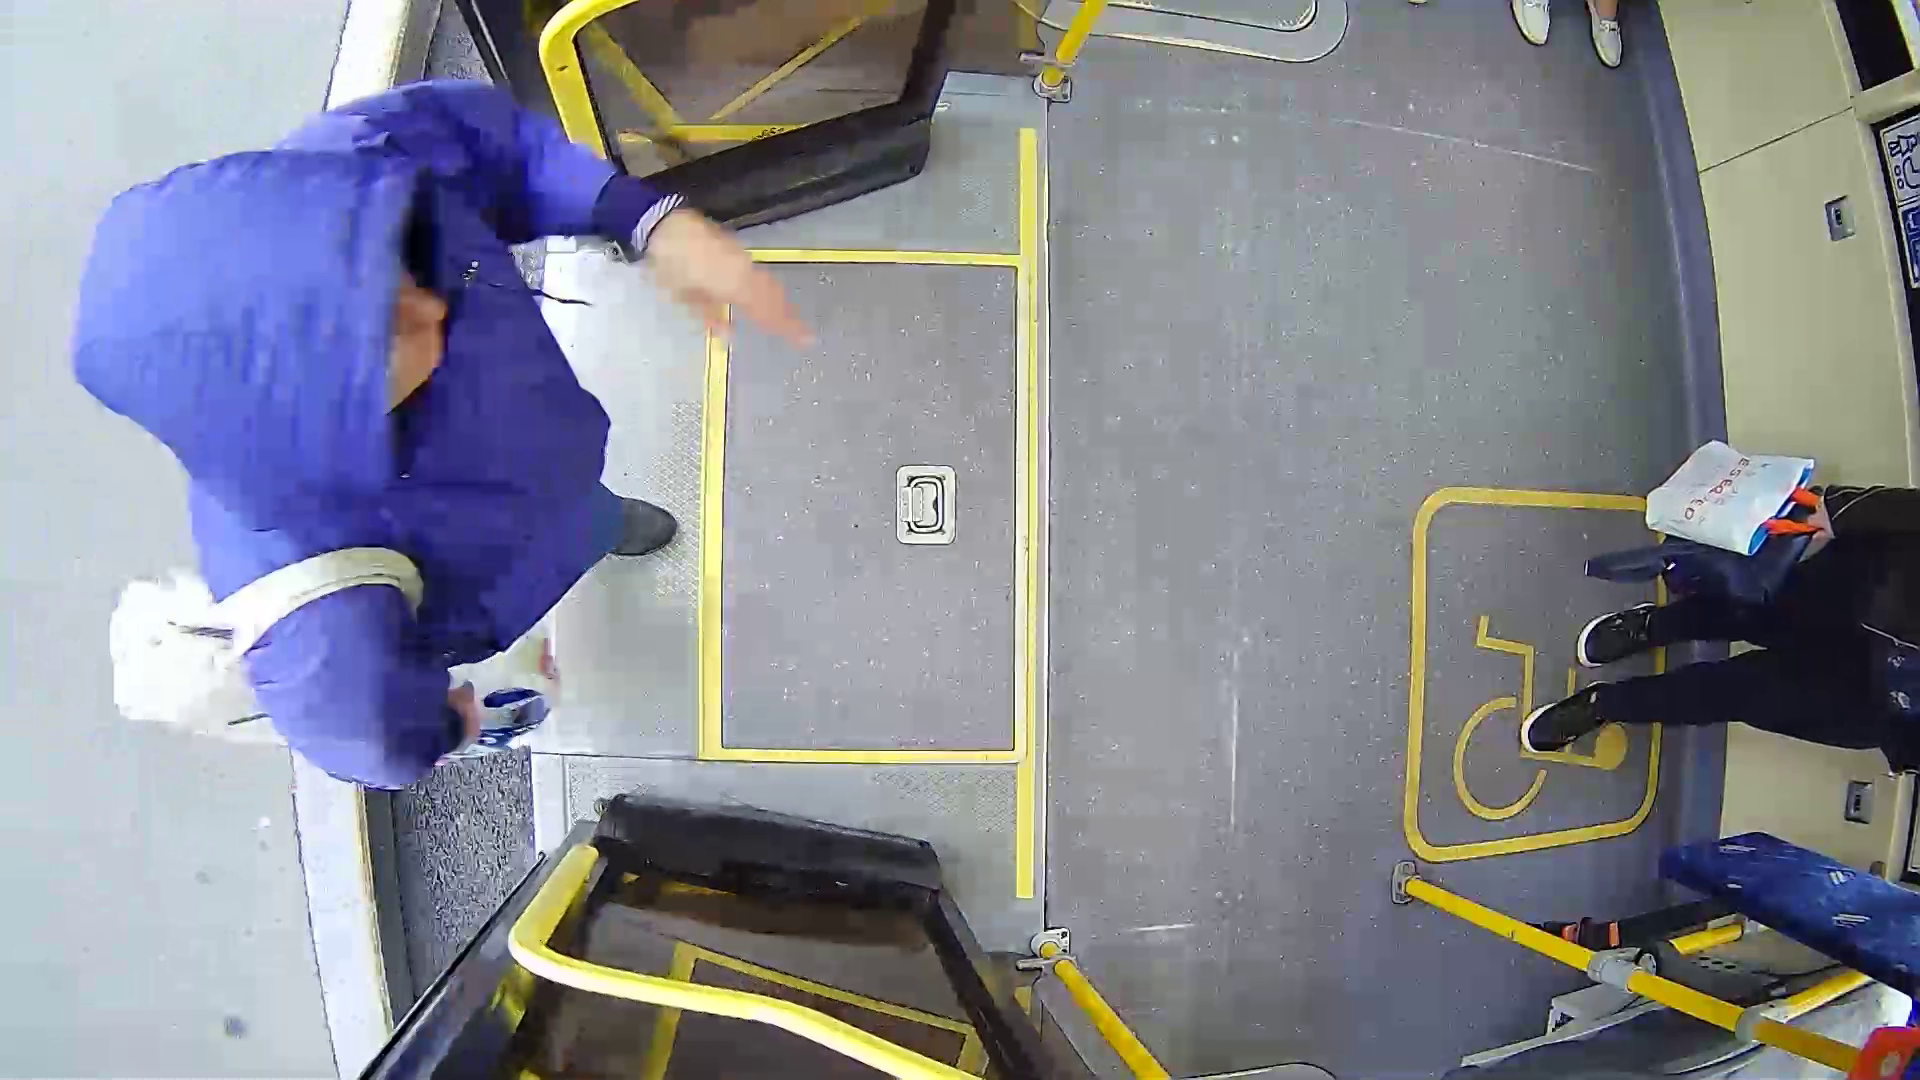person: (46, 104, 869, 773)
